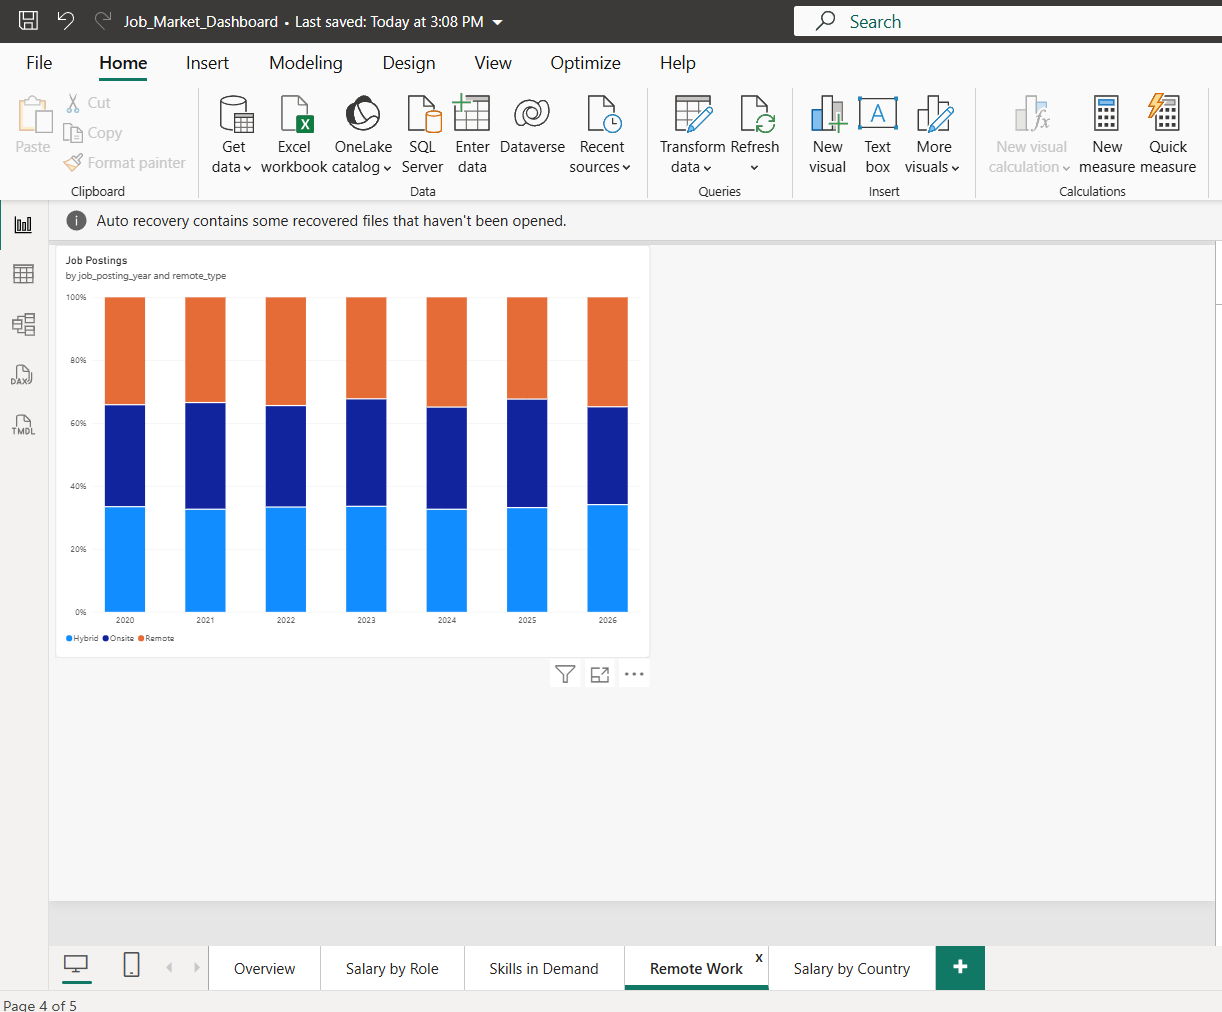

This screenshot's page, from the dashboard's own definition file:
{"tool":"powerbi","page":{"name":"Remote Work","canvas":[1920,1080],"ordinal":3},"visuals":[{"type":"hundredPercentStackedColumnChart","fields":{"Category":["ai_jobs_2020_2026.job_posting_year"],"Series":["ai_jobs_2020_2026.remote_type"],"Y":["ai_jobs_2020_2026.Job Postings"]},"box":[10.3,0,979.8,679.2],"z":0}]}

Visuals, with their boxes on the page's 1920x1080 design canvas (x1, y1, x2, y2). These are canvas units, not pixel positions in the 1222x1012 screenshot, which may show the page scaled, cropped or inside an application window:
hundredPercentStackedColumnChart - ai_jobs_2020_2026.job_posting_year x ai_jobs_2020_2026.remote_type: 10:0:990:679
